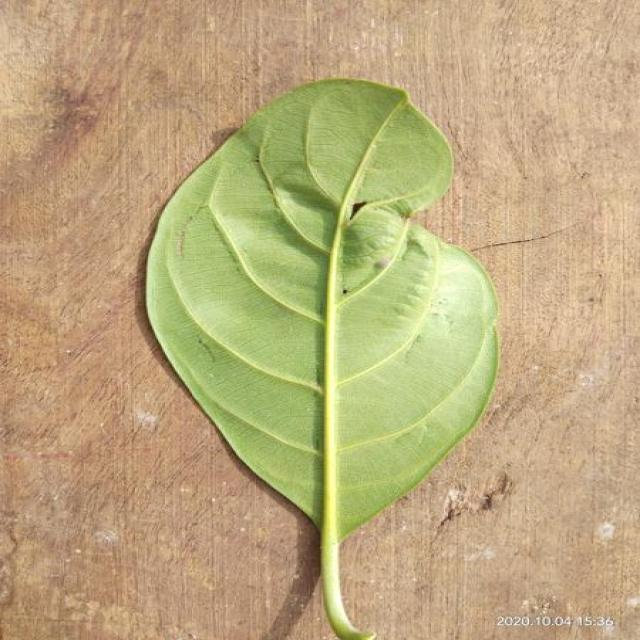Jackfruit: (147, 79, 497, 640)
